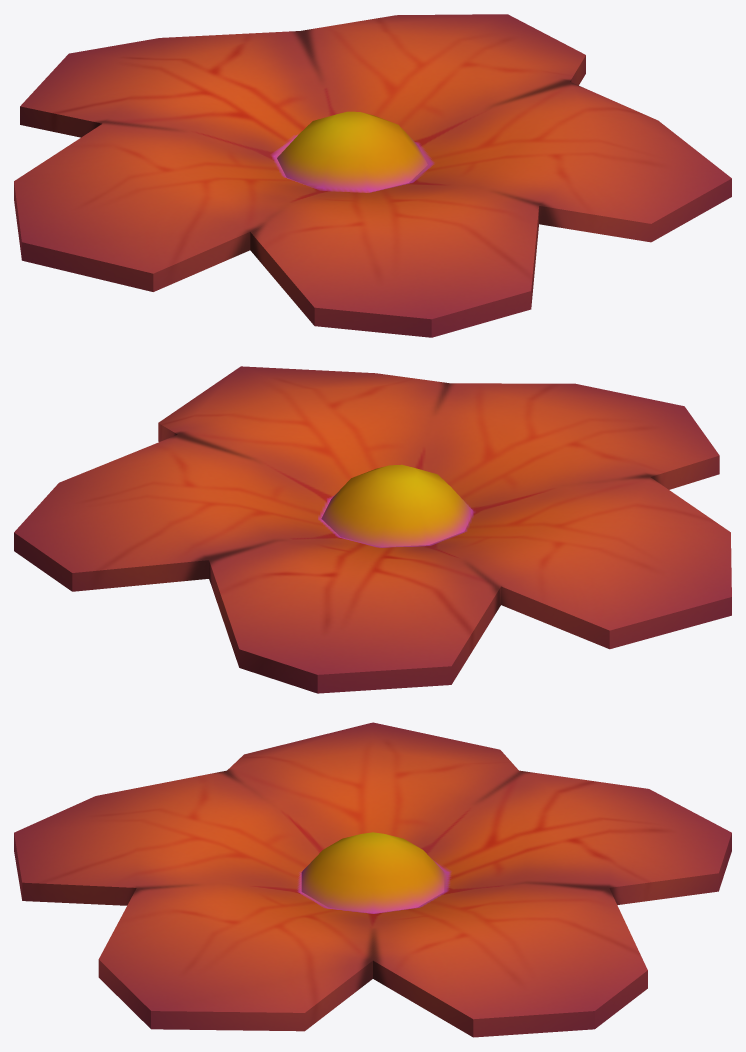
Rendered from BigFlower.FBX.
3 renders of one model, top to bottom at view 1: azimuth 30°, elevation 25°; view 2: azimuth 150°, elevation 25°; view 3: azimuth 270°, elevation 25°, orthographic. The views are drawn at different scales.
Visible parts, largest first — view 1: BigFlower; view 2: BigFlower; view 3: BigFlower.
Boxes of the visible parts, bbox=[...] form: BigFlower: bbox=[14, 14, 731, 337]; BigFlower: bbox=[14, 366, 731, 693]; BigFlower: bbox=[14, 722, 731, 1037].
Bounding box in the file's own units: 32.76 × 3.06 × 33.5.
